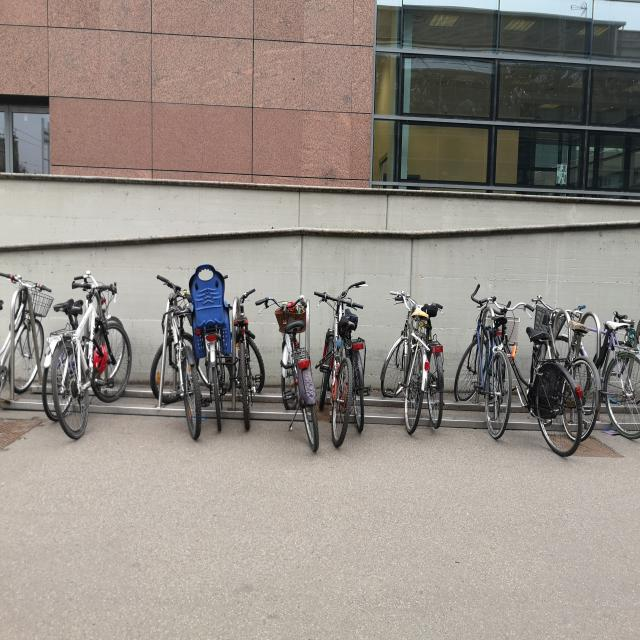Bicycle: (488, 298, 578, 465), (55, 243, 123, 443), (567, 294, 640, 455), (532, 294, 598, 442), (48, 266, 112, 406), (383, 276, 428, 446), (275, 281, 320, 437), (0, 265, 41, 424), (467, 251, 506, 409), (156, 264, 193, 424), (322, 269, 350, 447), (198, 281, 228, 431), (350, 268, 372, 439), (425, 276, 448, 436), (235, 292, 262, 414)
